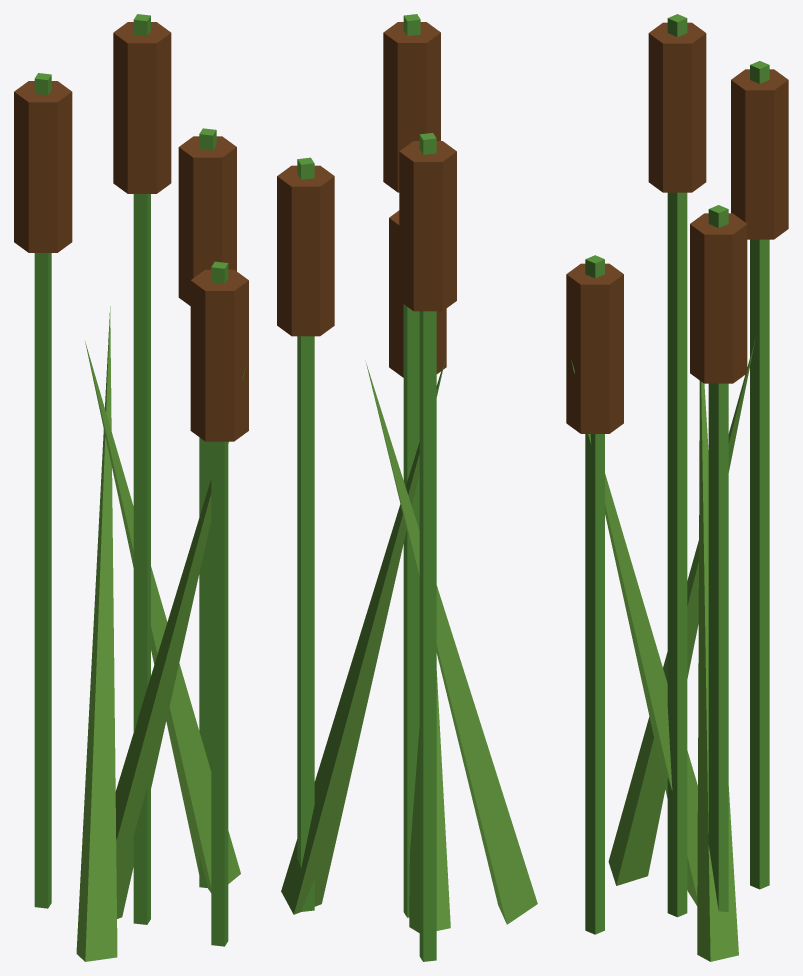
The model's file is nature2_cattails.glb.
3 views of the same model, side by side, from view 1: azimuth 30°, elevation 25°; view 2: azimuth 150°, elevation 25°; view 3: azimuth 270°, elevation 25° (orthographic).
Parts seen in each view (by area): view 1: cattails; view 2: cattails; view 3: cattails.
Boxes of the visible parts, left/top/right/bottom form: cattails: left=14, top=14, right=248, bottom=961; cattails: left=277, top=14, right=537, bottom=961; cattails: left=566, top=14, right=788, bottom=961.
Size of the model in its own units: 0.2881 by 1.2 by 0.27.
